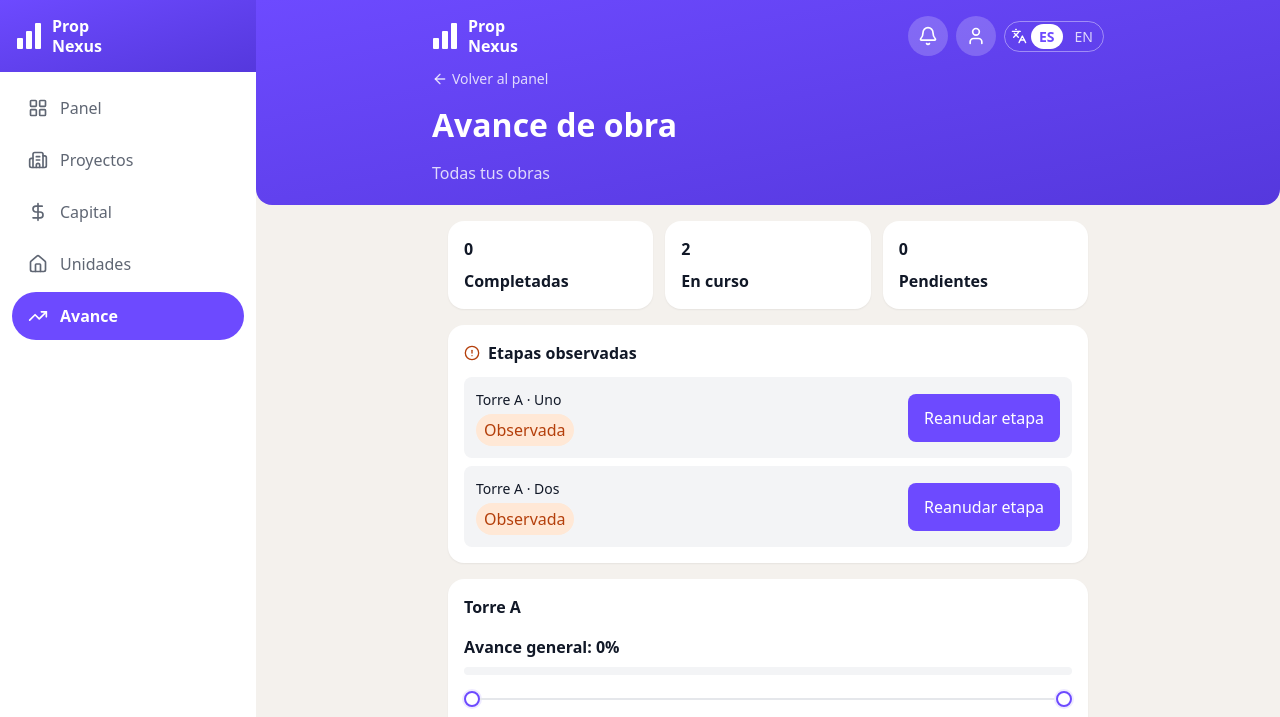
Test: /developer/progress › con dos etapas observadas, solo la que se está reanudando muestra el estado de carga
This screenshot has width=1280, height=717.
Click the button with test id "DEV-PROGRESS-RESUME-BTN". click: x=984, y=418
box: [908,394,1060,442]
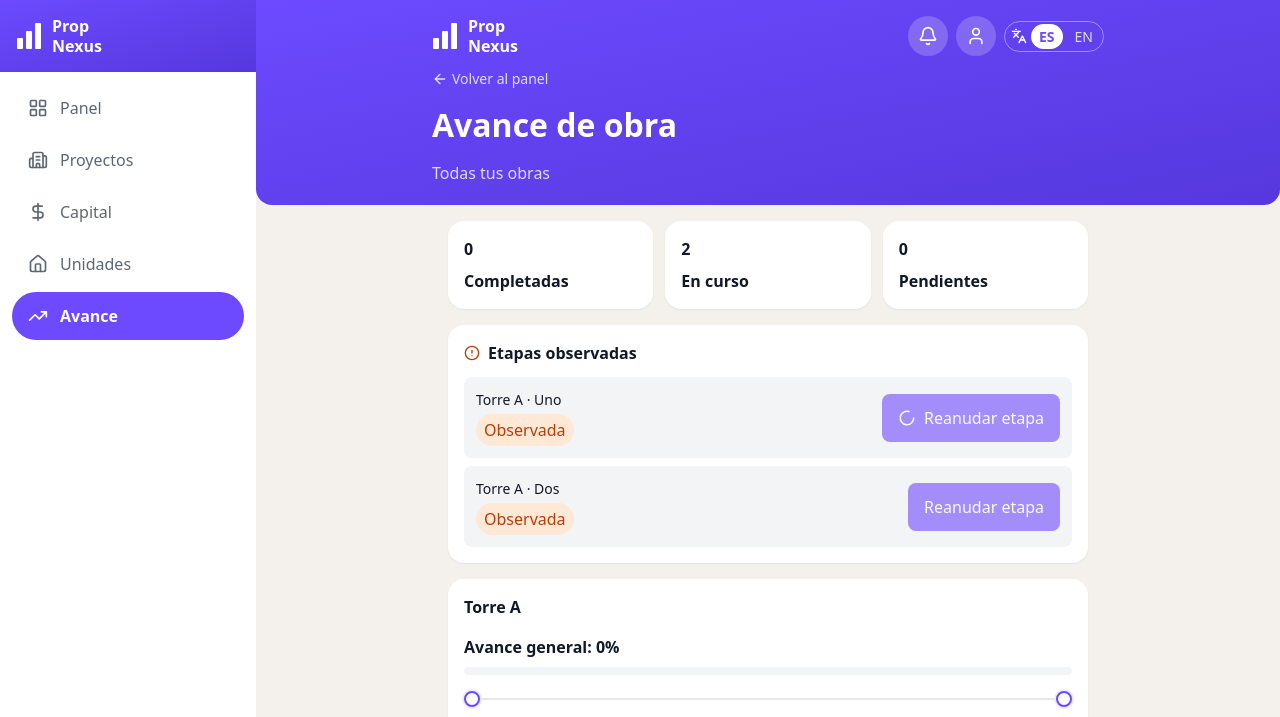
Now the button with test id "DEV-PROGRESS-RESUME-BTN" is disabled, box [882,394,1060,442]
